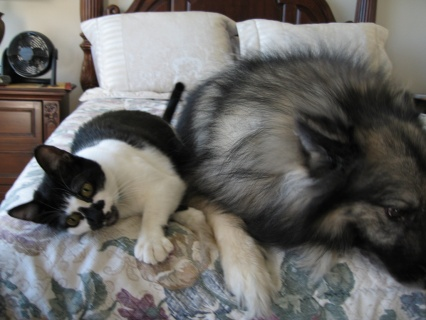Cat: (4, 82, 190, 266)
